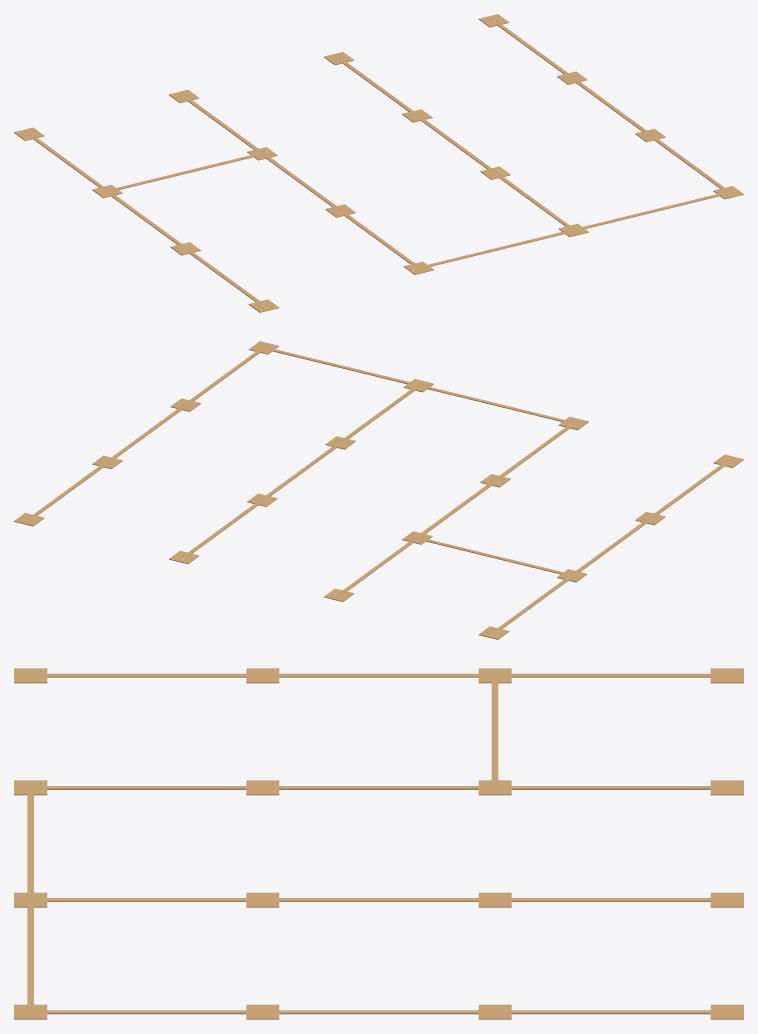
Rendered from board.glb.
The picture shows the model from 3 angles, top to bottom: view 1: azimuth 30°, elevation 25°; view 2: azimuth 150°, elevation 25°; view 3: azimuth 270°, elevation 25°; orthographic projection. The views are drawn at different scales.
Visible parts, largest first — view 1: Unified_Net_1_Contour_0; view 2: Unified_Net_1_Contour_0; view 3: Unified_Net_1_Contour_0.
Boxes of the visible parts, box(x1,y1,x2,y2) form: Unified_Net_1_Contour_0: box(14, 14, 743, 312); Unified_Net_1_Contour_0: box(14, 341, 743, 639); Unified_Net_1_Contour_0: box(14, 668, 743, 1019).
Bounding box in the file's own units: 0.025 × 3.5e-05 × 0.022.
